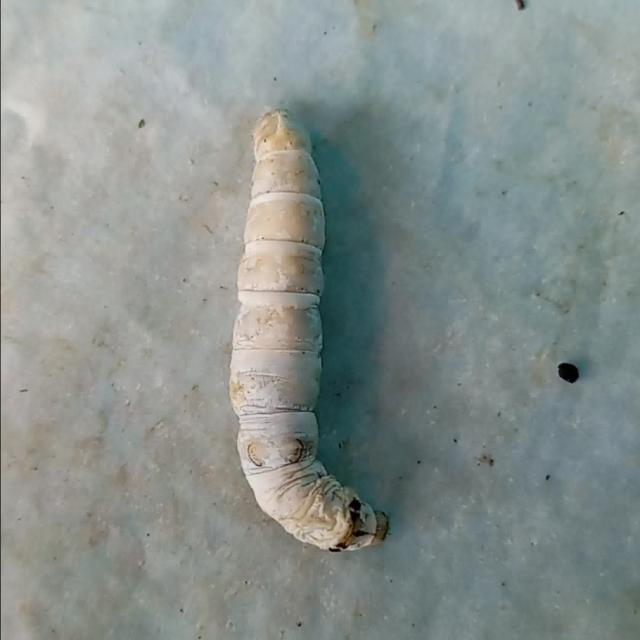Grasserie: (199, 86, 411, 574)
